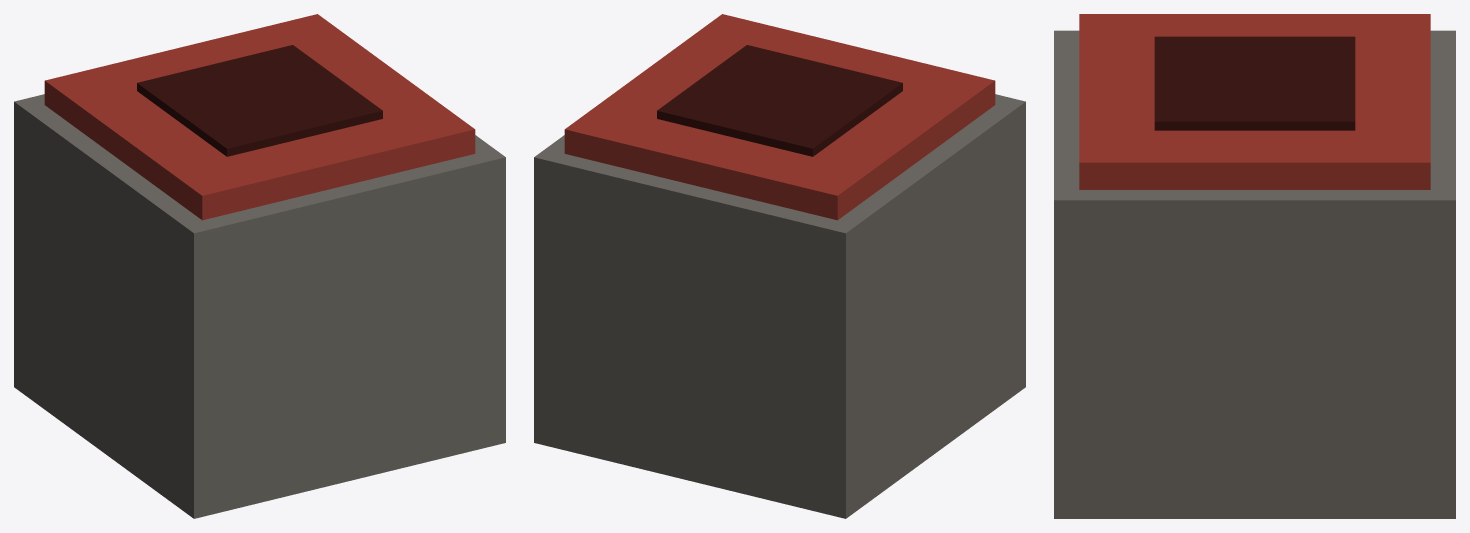
File: s2_seal_stone.glb
3 views of the same model, side by side, from view 1: azimuth 30°, elevation 25°; view 2: azimuth 150°, elevation 25°; view 3: azimuth 270°, elevation 25° (orthographic). The views are drawn at different scales.
Parts seen in each view (by area): view 1: s2_seal_stone; view 2: s2_seal_stone; view 3: s2_seal_stone.
Boxes of the visible parts, x1,y1,x2,y2 form: s2_seal_stone: [14, 14, 505, 518]; s2_seal_stone: [534, 14, 1025, 518]; s2_seal_stone: [1054, 14, 1455, 518].
Size of the model in its own units: 0.8 by 0.78 by 0.8.
